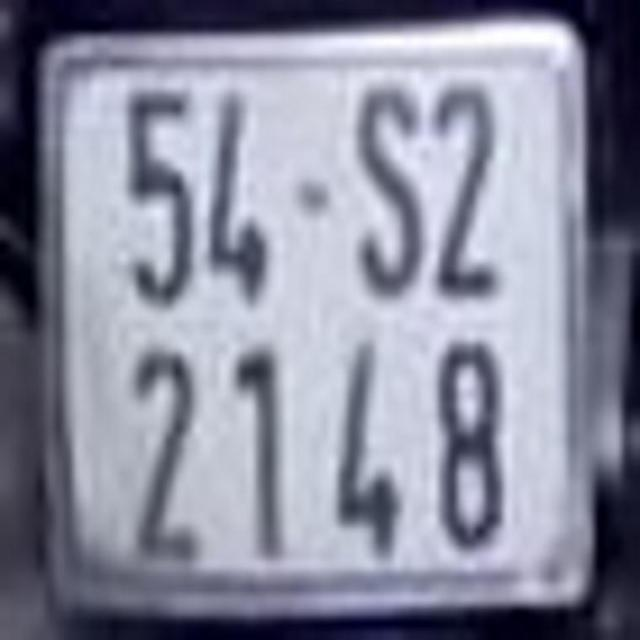1: (238, 343, 285, 564)
2: (133, 350, 199, 554), (436, 89, 500, 290)
4: (335, 337, 400, 561), (210, 92, 268, 296)
5: (128, 99, 194, 312)
8: (434, 336, 506, 546)
S: (353, 86, 423, 292)
